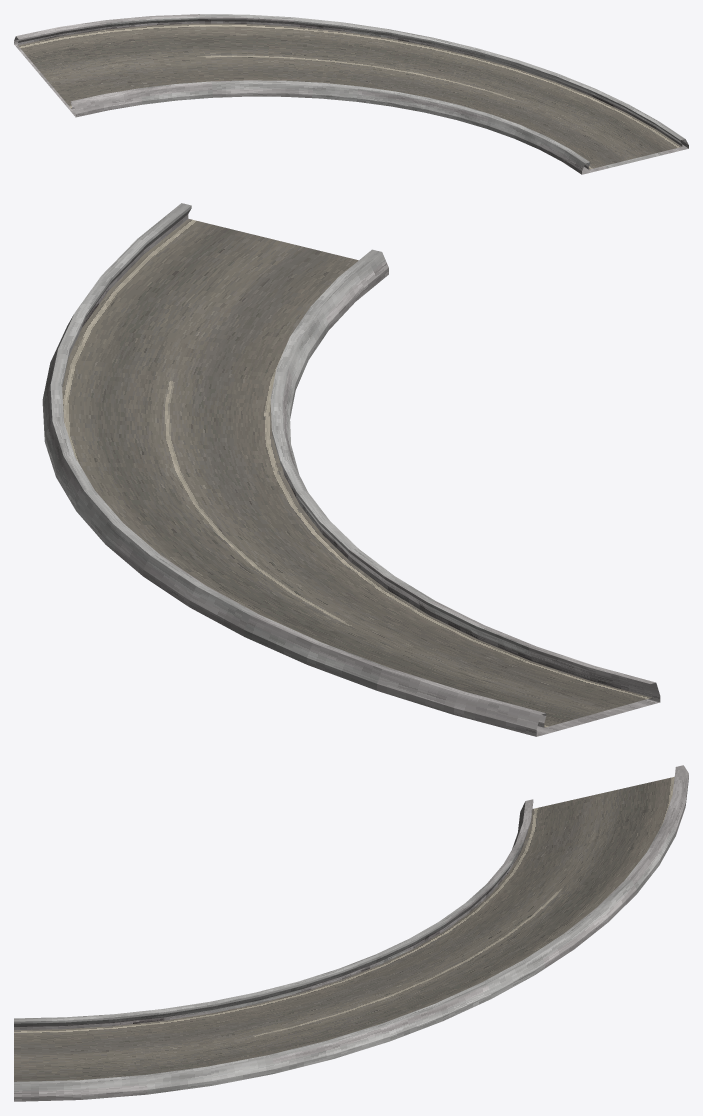
The model's file is turn-left4x4.glb.
The picture shows the model from 3 angles, top to bottom: view 1: azimuth 30°, elevation 25°; view 2: azimuth 150°, elevation 25°; view 3: azimuth 270°, elevation 25°; orthographic projection. The views are drawn at different scales.
Visible parts, largest first — view 1: road-Turn-Flat-HalfBankedLeft-Even-Left-Size4; view 2: road-Turn-Flat-HalfBankedLeft-Even-Left-Size4; view 3: road-Turn-Flat-HalfBankedLeft-Even-Left-Size4.
Boxes of the visible parts, <box> form: road-Turn-Flat-HalfBankedLeft-Even-Left-Size4: <box>14,14,688,174</box>; road-Turn-Flat-HalfBankedLeft-Even-Left-Size4: <box>42,203,660,736</box>; road-Turn-Flat-HalfBankedLeft-Even-Left-Size4: <box>14,765,688,1101</box>.
Bounding box in the file's own units: 4 × 0.3359 × 4.
Materials: 2 (2 with a texture image).
